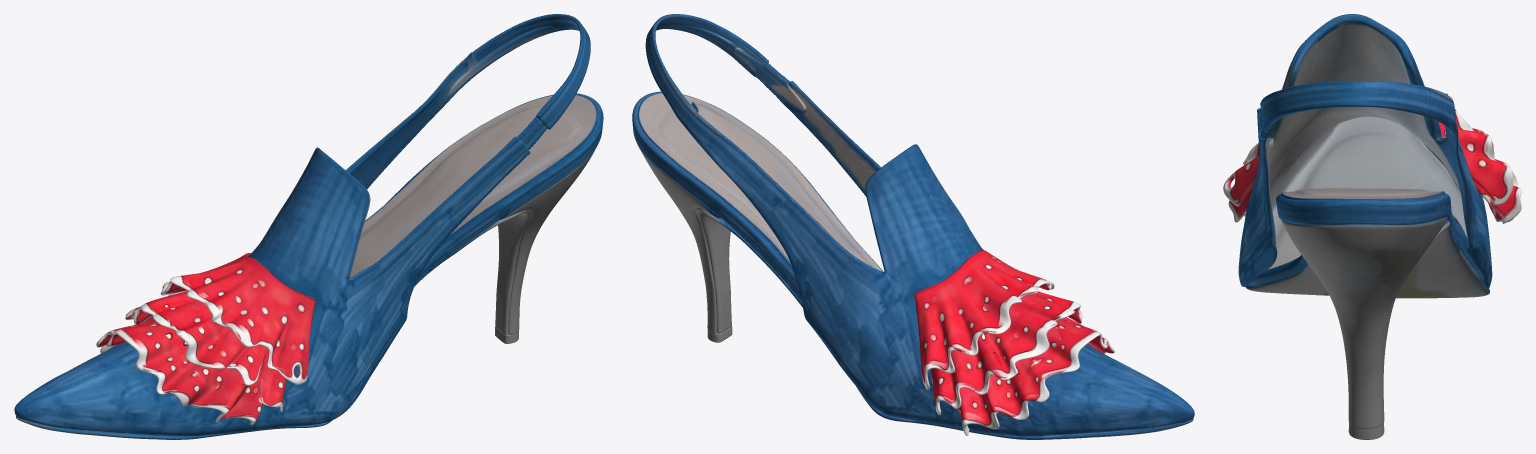
Rendered from flamenqued-model.glb.
3 renders of one model, left to right at view 1: azimuth 30°, elevation 25°; view 2: azimuth 150°, elevation 25°; view 3: azimuth 270°, elevation 25°, orthographic. The views are drawn at different scales.
Bounding box in the file's own units: 1.9 × 0.9761 × 0.6711.
Materials: 1 (1 with a texture image).
